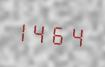four: (35, 18, 51, 46), (69, 21, 85, 49)
one: (18, 17, 34, 45)
six: (52, 20, 68, 48)
